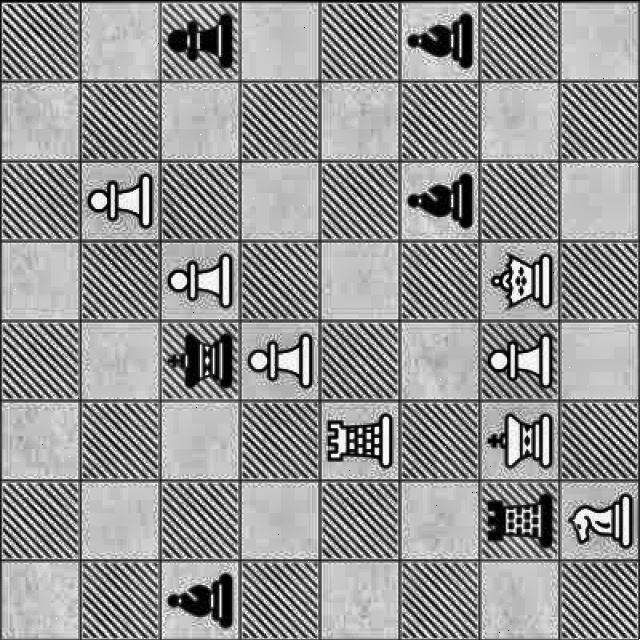black bishop: (399, 3, 477, 73), (168, 566, 242, 635), (401, 169, 476, 237)
black king: (164, 321, 240, 399)
black pawn: (159, 0, 239, 79)
black rook: (484, 485, 560, 555)
white king: (482, 411, 550, 471)
white pawn: (482, 322, 558, 398), (164, 246, 246, 314), (80, 164, 158, 234), (240, 330, 314, 394)
white queen: (484, 245, 559, 313)
white rook: (322, 407, 398, 473)
whiteknight: (564, 488, 636, 553)
